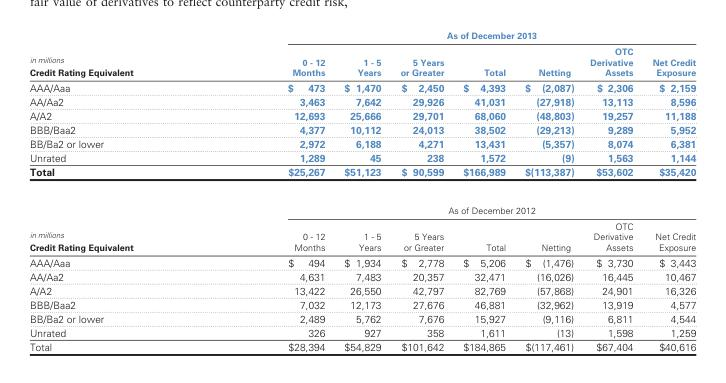table: (28, 29, 695, 352)
table column: (28, 29, 209, 352), (209, 29, 334, 352), (514, 29, 581, 352), (390, 29, 452, 352), (452, 29, 514, 352), (581, 29, 642, 352), (334, 29, 390, 352), (642, 29, 695, 352)
table column header: (28, 29, 695, 78)
table row: (28, 42, 695, 78), (28, 217, 695, 253), (28, 190, 695, 217), (28, 164, 695, 190), (28, 78, 695, 94), (28, 253, 695, 268), (28, 268, 695, 283), (28, 94, 695, 108), (28, 108, 695, 122), (28, 122, 695, 136), (28, 136, 695, 150), (28, 150, 695, 164), (28, 283, 695, 297), (28, 297, 695, 311), (28, 311, 695, 325), (28, 325, 695, 339), (28, 29, 695, 42), (28, 339, 695, 352)
table spanning cell: (209, 190, 695, 217), (28, 29, 209, 78), (209, 29, 695, 42)
